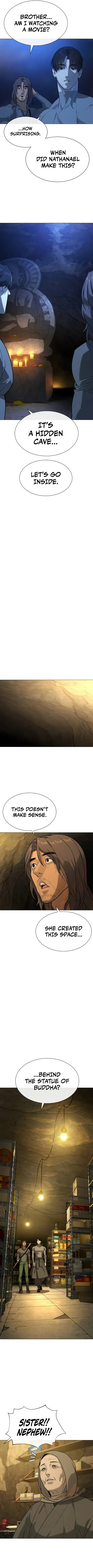bubbles: (3, 114, 92, 184), (3, 0, 68, 56), (15, 1058, 80, 1112), (14, 407, 80, 458), (2, 1404, 67, 1448), (33, 905, 92, 952), (1, 792, 57, 836), (18, 459, 73, 498)
